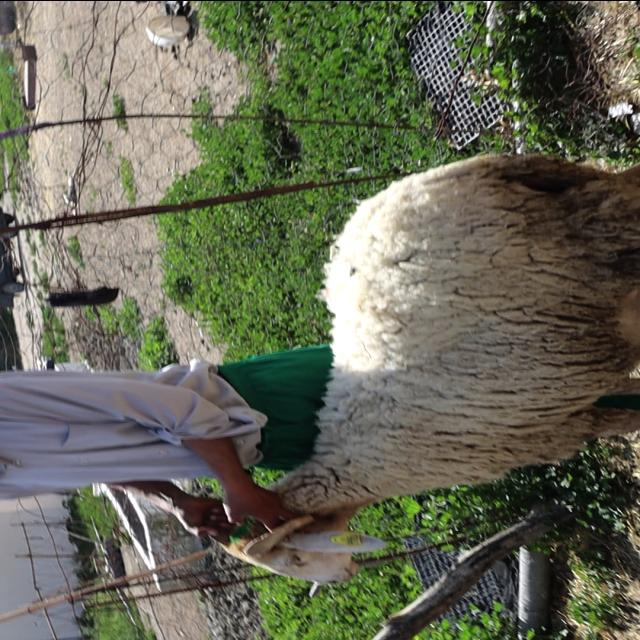Score_4: (217, 154, 639, 584)
